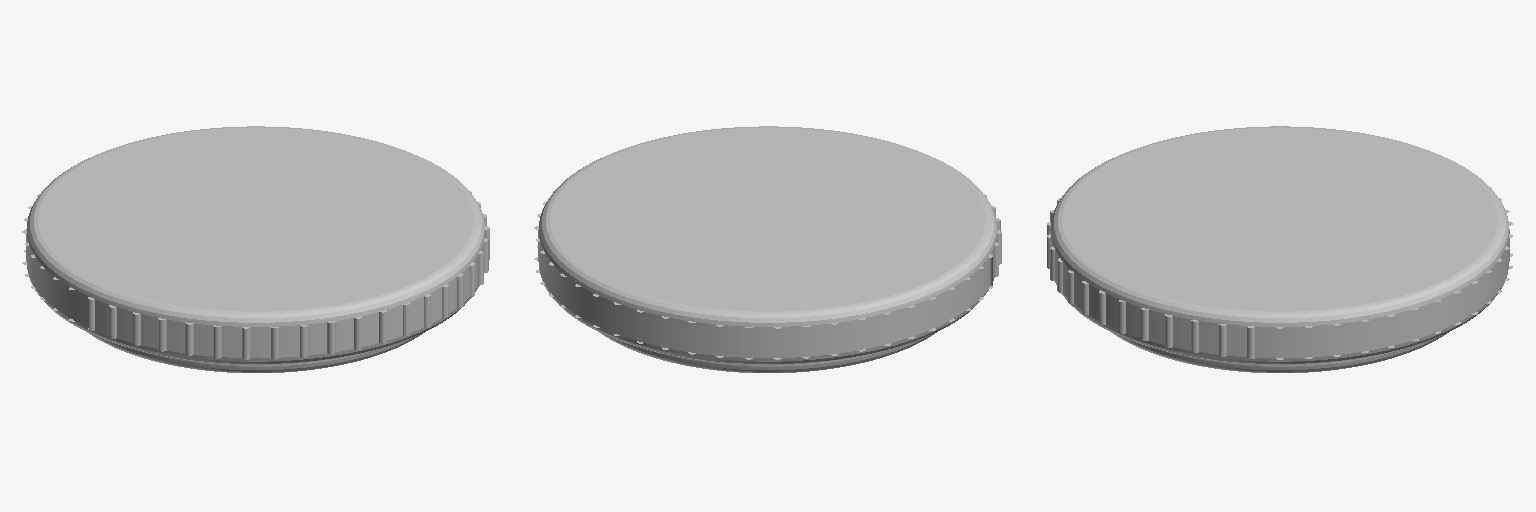
The model's file is MobilePlatform.obj.
3 renders of one model, left to right at view 1: azimuth 30°, elevation 25°; view 2: azimuth 150°, elevation 25°; view 3: azimuth 270°, elevation 25°, orthographic.
Visible parts, largest first — view 1: object_2, object_1; view 2: object_2, object_1; view 3: object_2, object_1.
Boxes of the visible parts, x1,y1,x2,y2 form: object_2: [26, 126, 485, 364]; object_1: [87, 332, 424, 372]; object_2: [538, 126, 997, 364]; object_1: [599, 332, 936, 372]; object_2: [1050, 126, 1509, 364]; object_1: [1111, 332, 1448, 372].
Size of the model in its own units: 40.74 by 7 by 40.66.